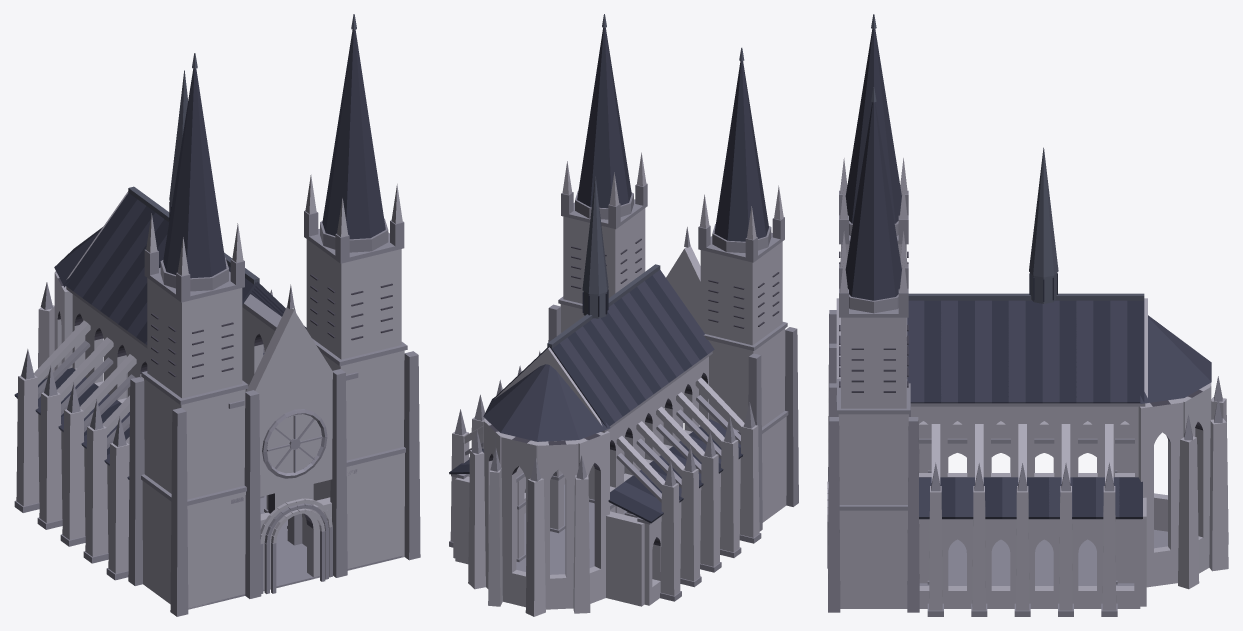
Rendered from cathedral.glb.
3 views of the same model, side by side, from view 1: azimuth 30°, elevation 25°; view 2: azimuth 150°, elevation 25°; view 3: azimuth 270°, elevation 25° (orthographic). The views are drawn at different scales.
Parts seen in each view (by area): view 1: cathedral; view 2: cathedral; view 3: cathedral.
Part boxes in pixels (left/top/right/bottom): cathedral: left=14, top=14, right=420, bottom=616; cathedral: left=449, top=14, right=798, bottom=616; cathedral: left=827, top=14, right=1228, bottom=616.
Bounding box in the file's own units: 23 × 45 × 32.36.
